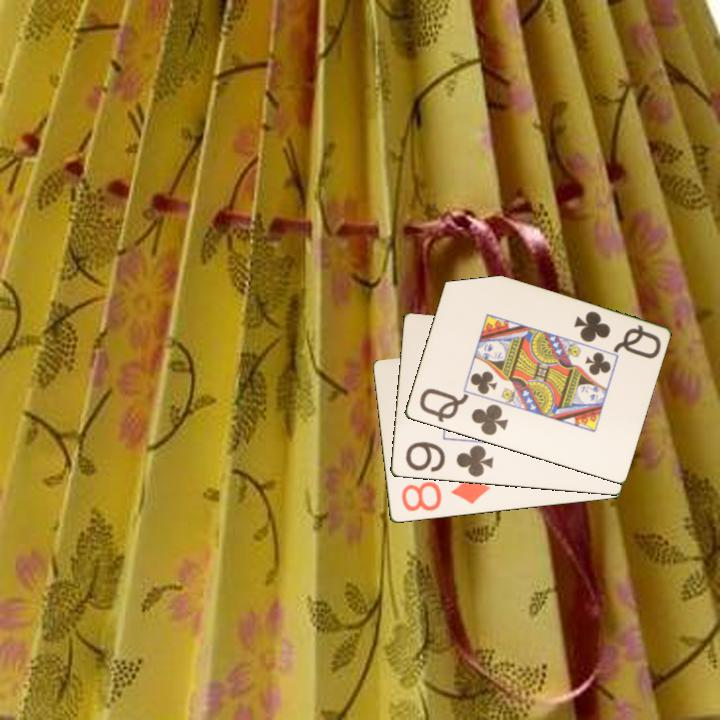8d: (398, 473, 493, 515)
9c: (401, 438, 496, 480)
Qc: (415, 385, 511, 439), (570, 308, 664, 362)
